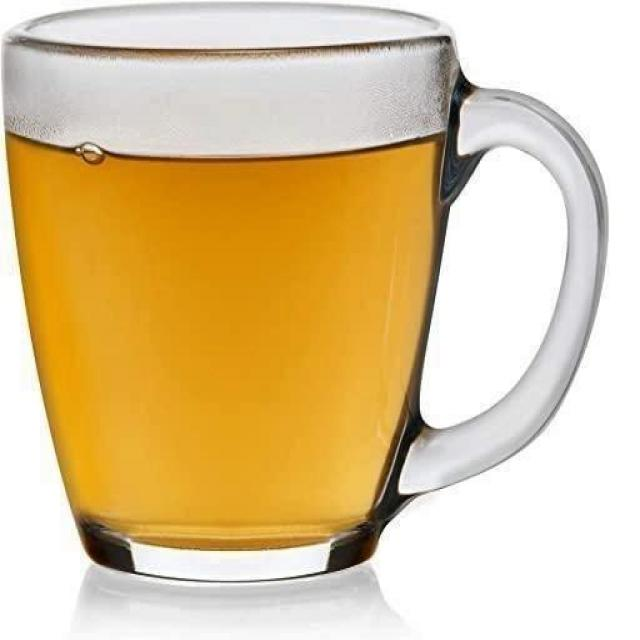glass-mug: (3, 0, 615, 588)
